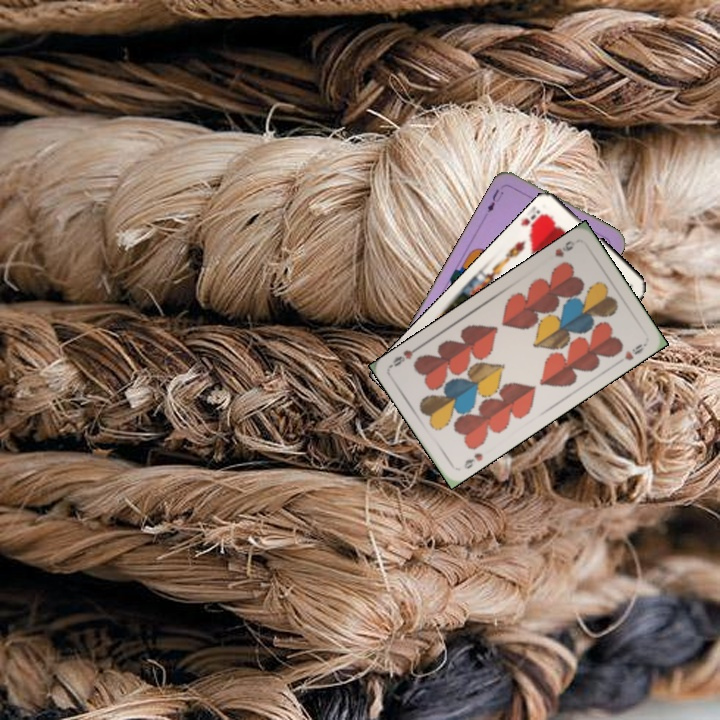EU: (483, 185, 502, 215)
H9: (551, 236, 578, 260), (460, 449, 485, 472)
HK: (523, 204, 551, 238)
